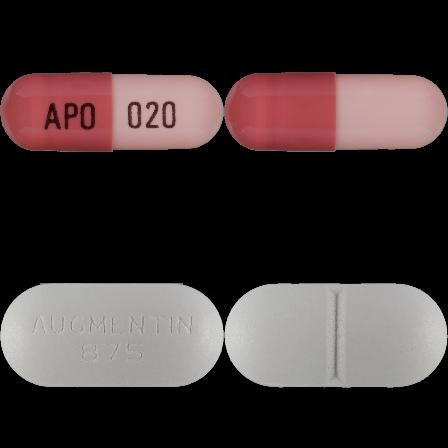68788-9955: (0, 0, 224, 224)
